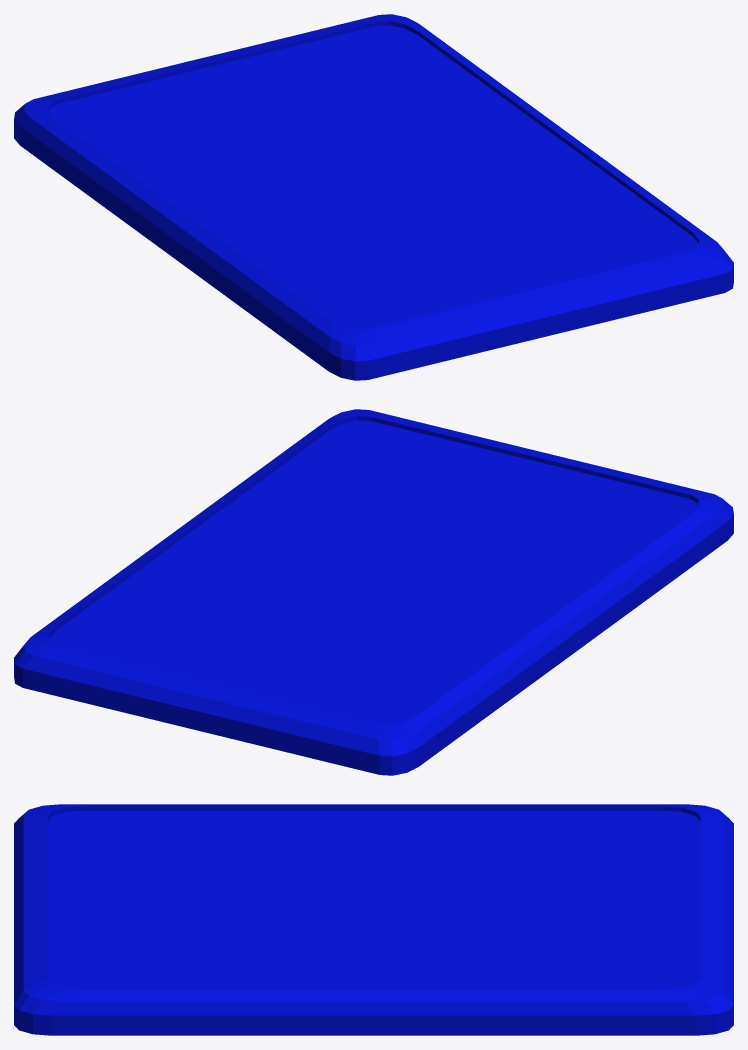
The model's file is SmallSolarPanel_Low.fbx.
3 views of the same model, one above another, from view 1: azimuth 30°, elevation 25°; view 2: azimuth 150°, elevation 25°; view 3: azimuth 270°, elevation 25° (orthographic). The views are drawn at different scales.
Visible parts, largest first — view 1: Low; view 2: Low; view 3: Low.
Boxes of the visible parts, x1,y1,x2,y2 form: Low: (14, 14, 733, 380); Low: (14, 409, 733, 775); Low: (14, 804, 733, 1035).
Size of the model in its own units: 0.2 by 0.0166 by 0.3.
